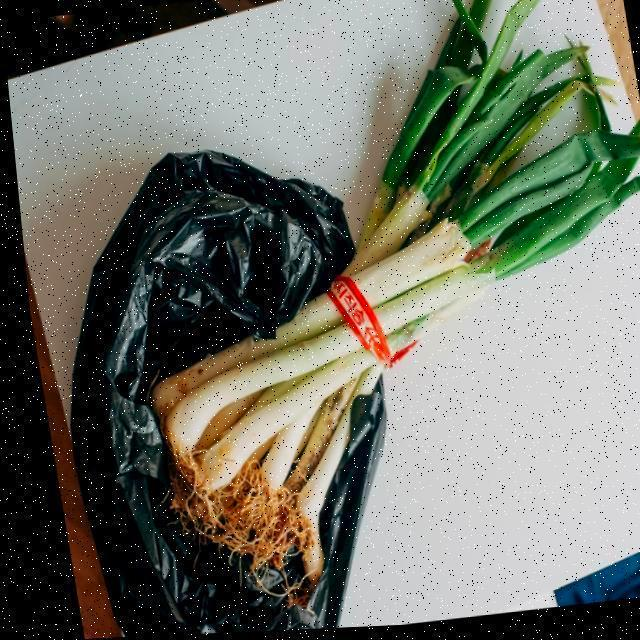green_onion: (155, 0, 640, 567)
